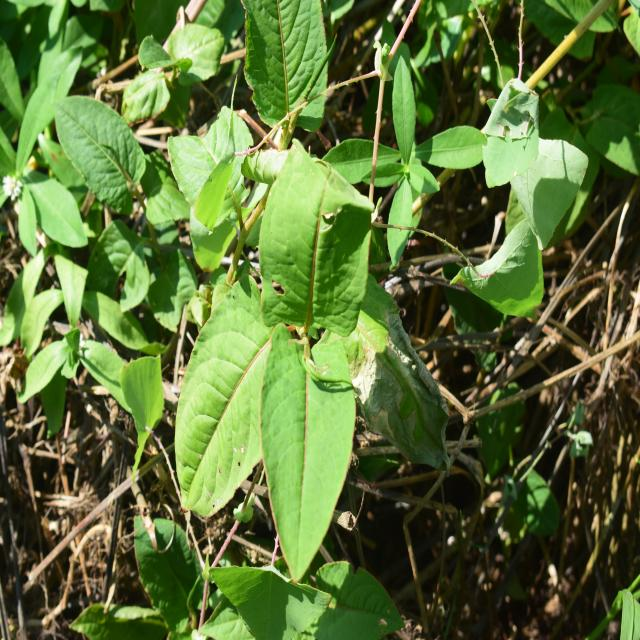Chinese_knotweed: (161, 113, 374, 529)
